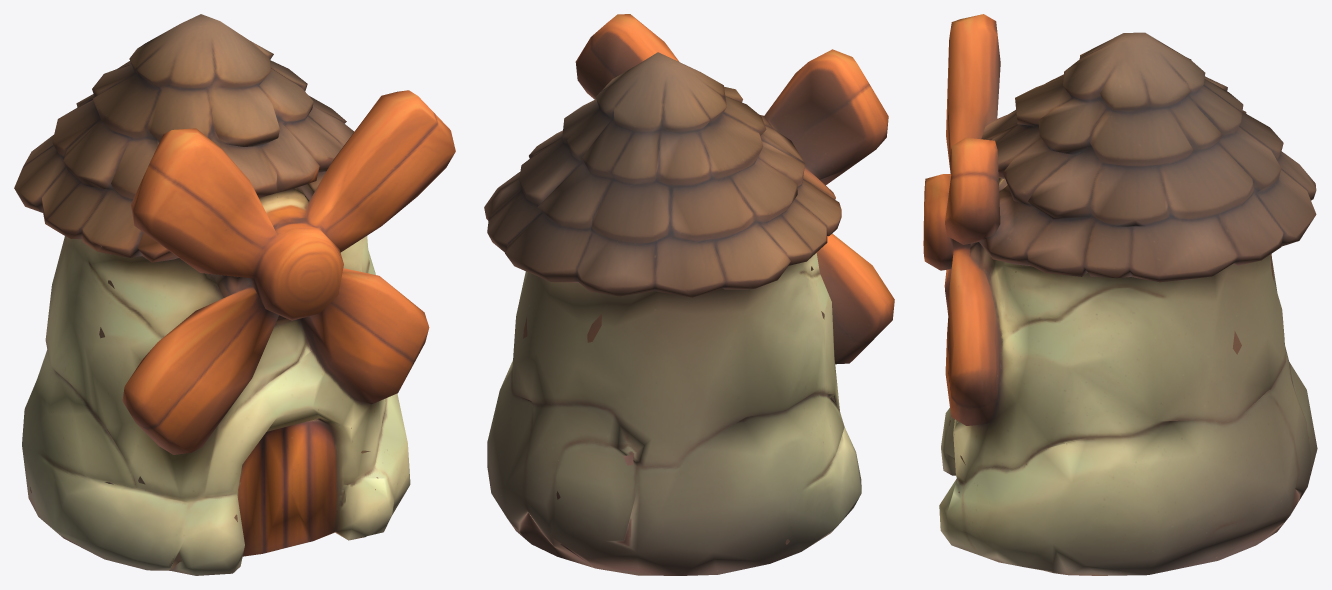
File: windmill.glb
The picture shows the model from 3 angles, left to right: view 1: azimuth 30°, elevation 25°; view 2: azimuth 150°, elevation 25°; view 3: azimuth 270°, elevation 25°; orthographic projection. The views are drawn at different scales.
Parts seen in each view (by area): view 1: geometry_0.001; view 2: geometry_0.001; view 3: geometry_0.001.
Part boxes in pixels (box(x1,y1,x2,y2)): geometry_0.001: box(14, 14, 455, 575); geometry_0.001: box(484, 14, 894, 575); geometry_0.001: box(923, 14, 1317, 575).
Bounding box in the file's own units: 1.48 × 1.99 × 1.52.
Materials: 1 (1 with a texture image).
